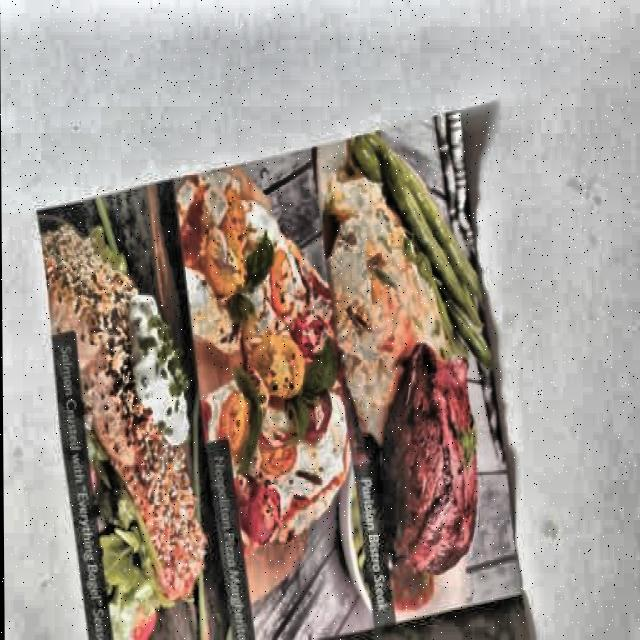paper: (34, 113, 537, 640)
